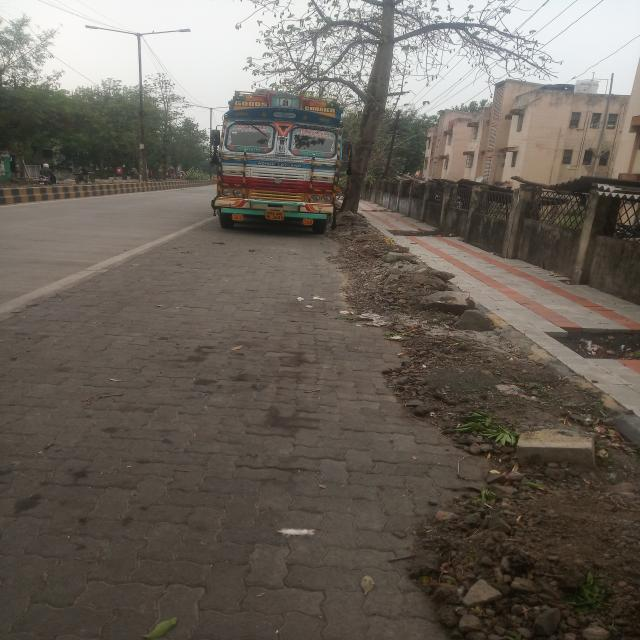Bike: (32, 176, 58, 186)
Truck: (198, 94, 338, 230)
